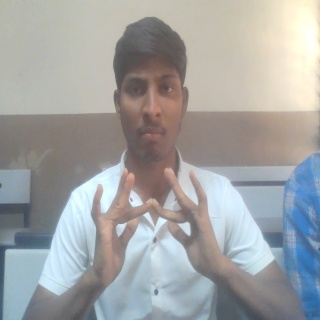Face: (111, 14, 190, 163)
Internet: (88, 164, 228, 289)
